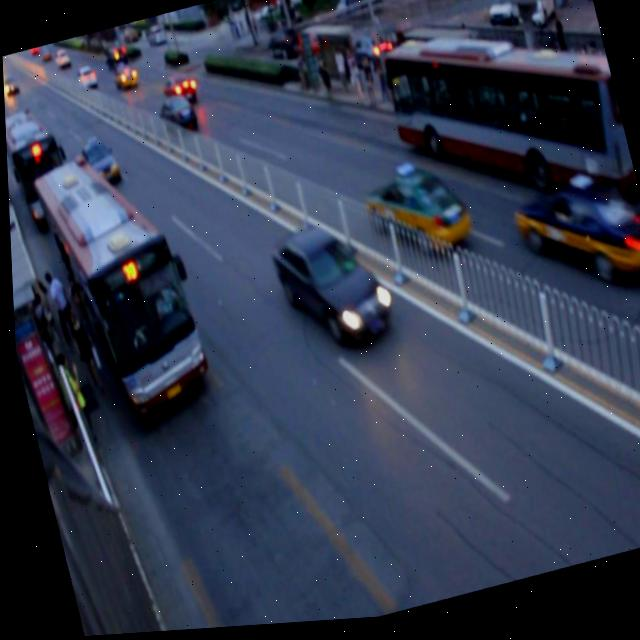car: (266, 213, 394, 363), (505, 168, 640, 307), (354, 162, 471, 274), (75, 133, 123, 194), (151, 90, 198, 147), (158, 70, 197, 113)
van: (375, 1, 637, 251), (26, 144, 211, 430), (4, 102, 76, 231)
